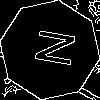N: (25, 25, 76, 69)
